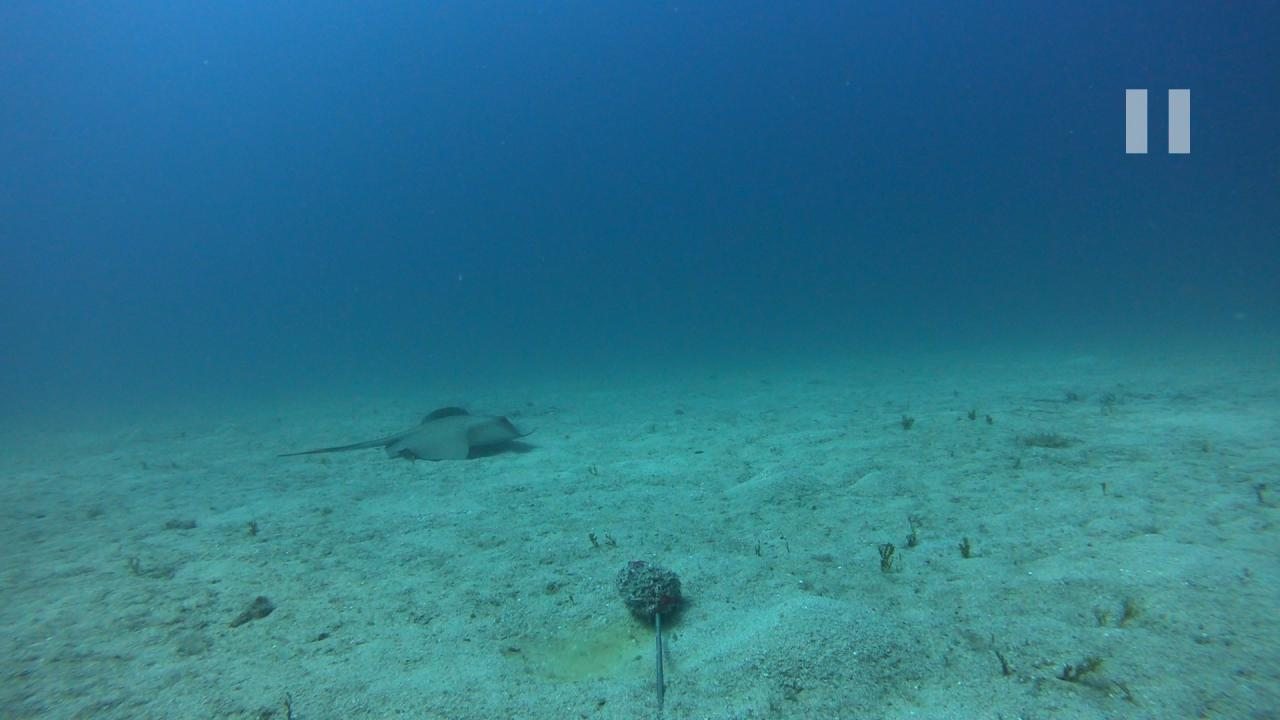dasyatis: (271, 404, 538, 458)
